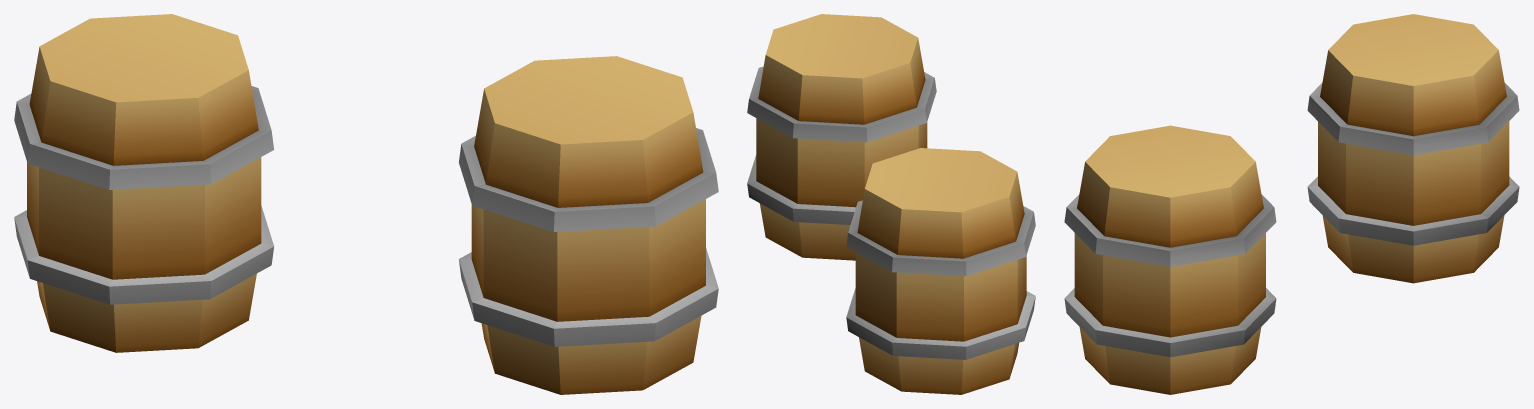
Rendered from doubleBarrel02.fbx.
The picture shows the model from 3 angles, left to right: view 1: azimuth 30°, elevation 25°; view 2: azimuth 150°, elevation 25°; view 3: azimuth 270°, elevation 25°; orthographic projection. The views are drawn at different scales.
Visible parts, largest first — view 1: doubleBarrel02; view 2: doubleBarrel02; view 3: doubleBarrel02.
Boxes of the visible parts, box(x1,y1,x2,y2) form: doubleBarrel02: box(14, 14, 718, 394); doubleBarrel02: box(747, 14, 1035, 394); doubleBarrel02: box(1064, 14, 1519, 394).
Bounding box in the file's own units: 163 × 74.3 × 155.
